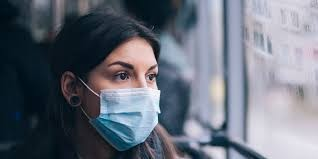with_mask: (88, 62, 162, 151)
